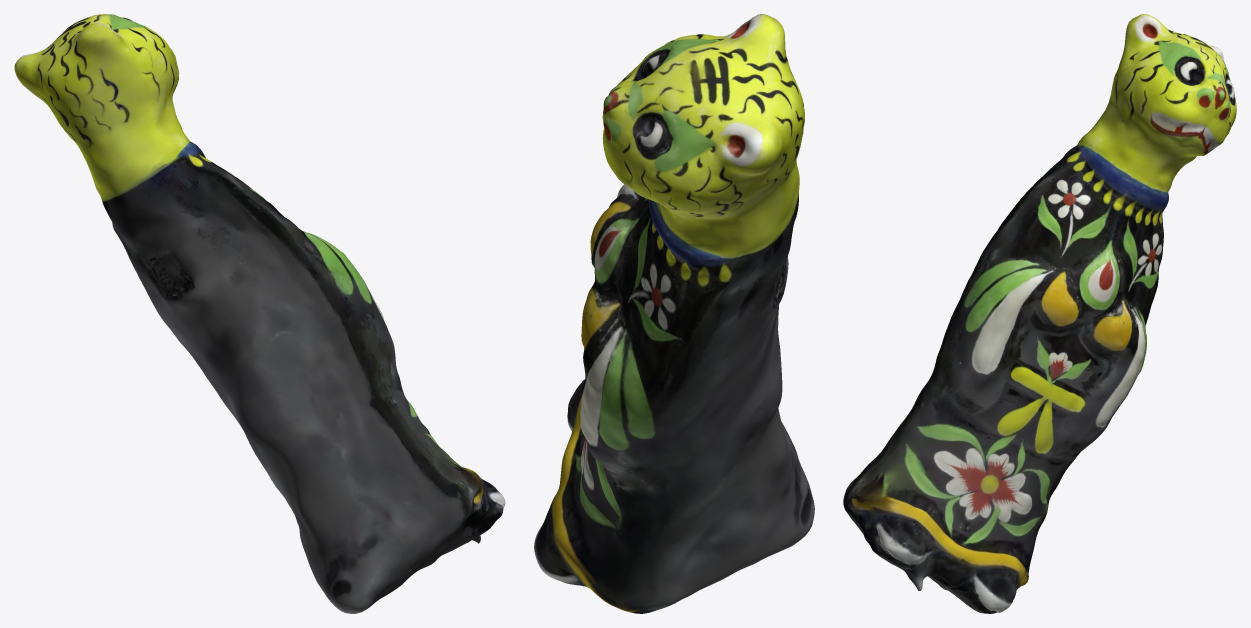
3 renders of one model, left to right at view 1: azimuth 30°, elevation 25°; view 2: azimuth 150°, elevation 25°; view 3: azimuth 270°, elevation 25°, orthographic. The views are drawn at different scales.
Size of the model in its own units: 0.4517 by 0.7346 by 0.5244.
Materials: 1 (1 with a texture image).
